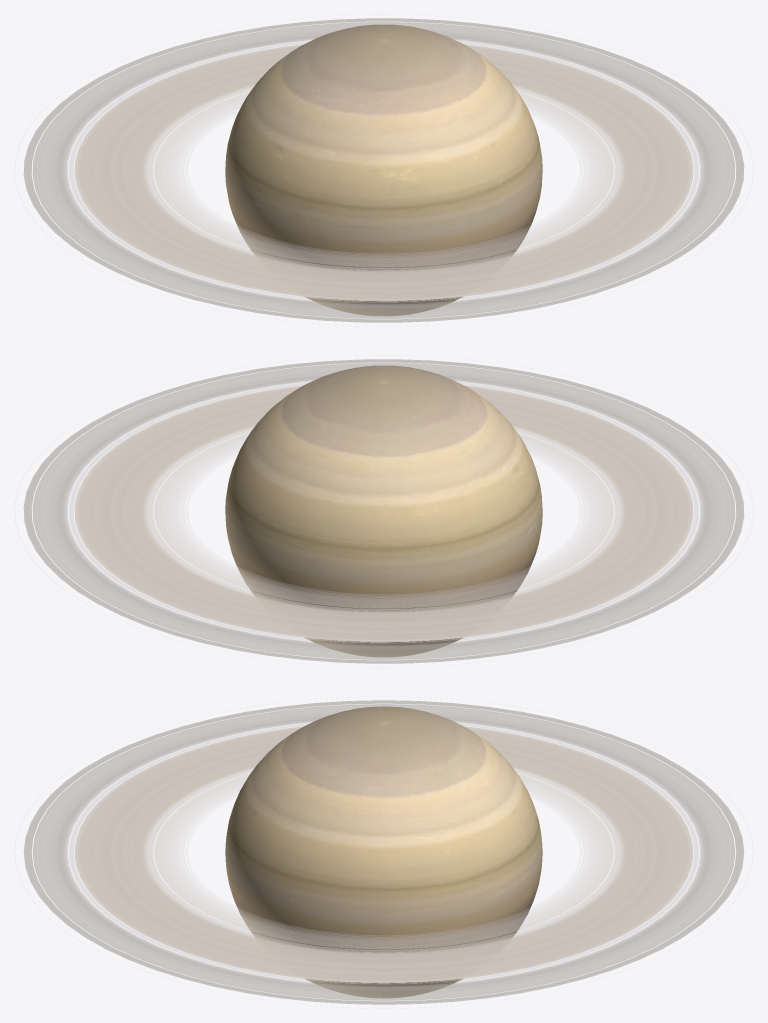
Rendered from Saturn-transformed.glb.
3 renders of one model, top to bottom at view 1: azimuth 30°, elevation 25°; view 2: azimuth 150°, elevation 25°; view 3: azimuth 270°, elevation 25°, orthographic.
Parts seen in each view (by area): view 1: RingsTop, Saturn.001; view 2: RingsTop, Saturn.001; view 3: RingsTop, Saturn.001.
Part boxes in pixels (<box>): RingsTop: <box>23,18,744,322</box>; Saturn.001: <box>225,24,542,315</box>; RingsTop: <box>23,359,744,663</box>; Saturn.001: <box>225,365,542,656</box>; RingsTop: <box>23,700,744,1004</box>; Saturn.001: <box>225,706,542,998</box>.
Size of the model in its own units: 2331 by 902 by 2331.
2 materials, 2 textured.
